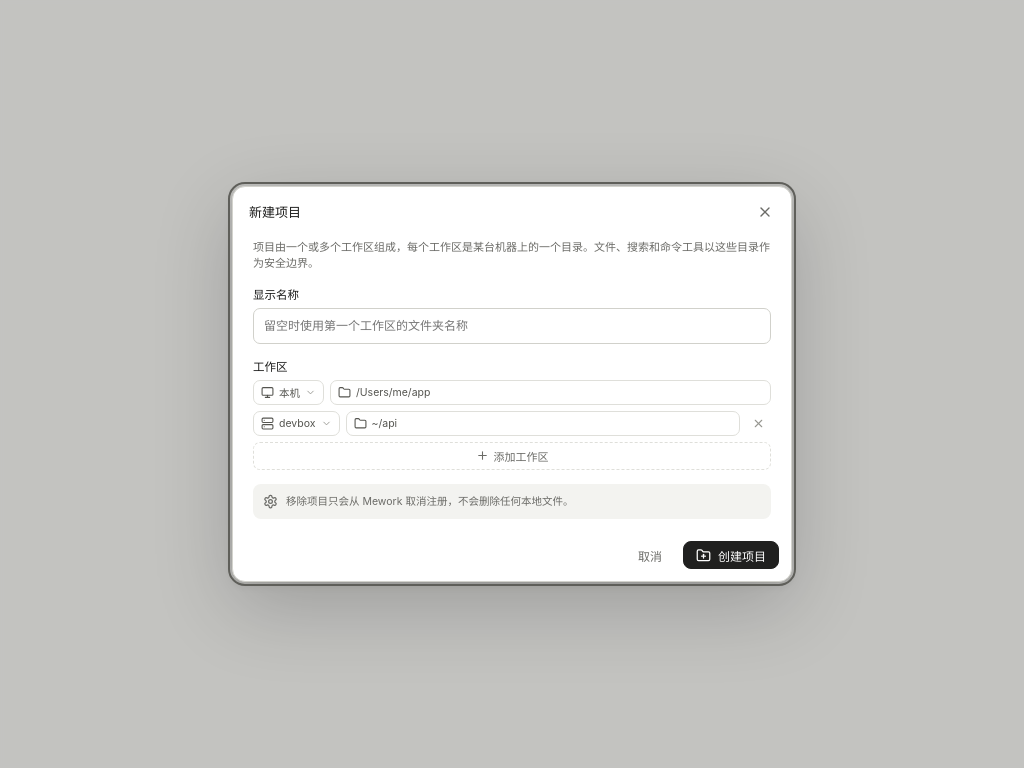
Test: ProjectDialog › deletes an SSH machine from its settings and returns rows on it to an unpicked local row
The width and height of the screenshot is (1024, 768).
Click the button "devbox" at (296, 423), box 253,411 -> 340,436
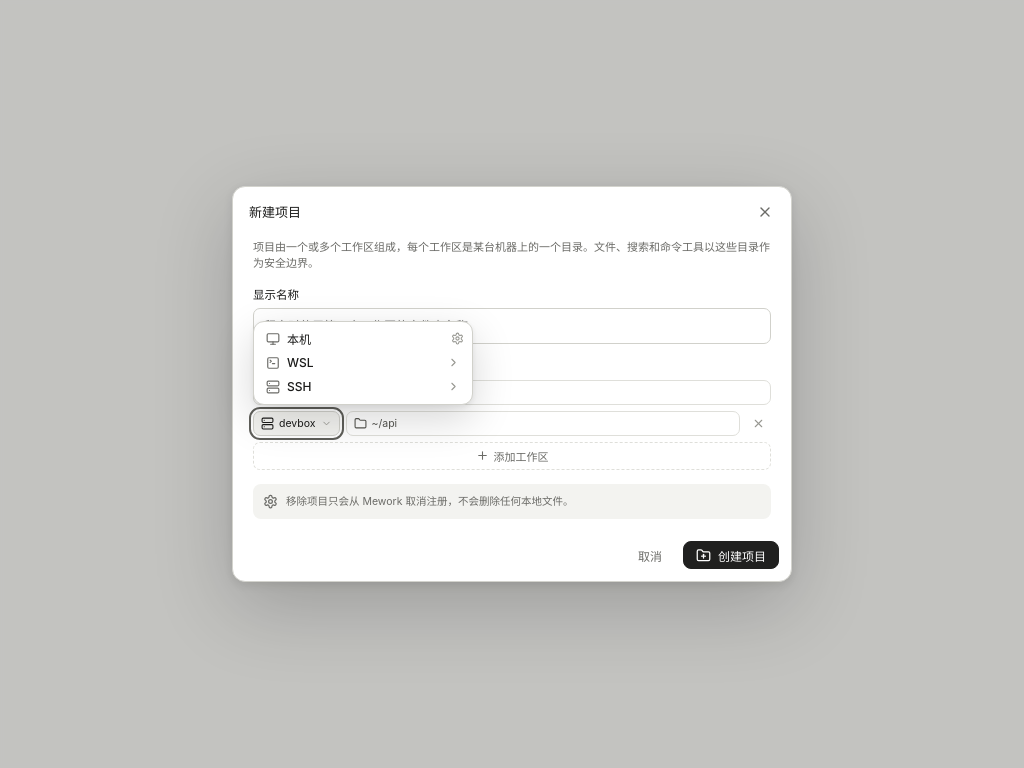
Click the menu item "SSH" at (363, 387), box 259,375 -> 467,399
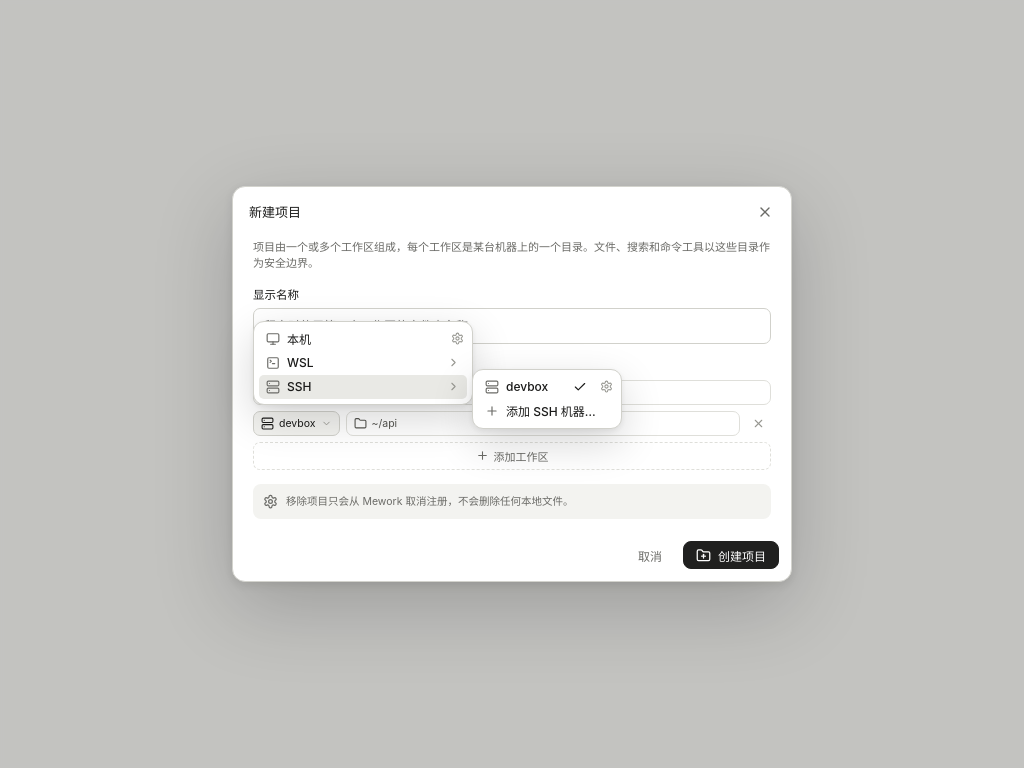
Click the button named "devbox 的设置" at (606, 387), box 596,377 -> 616,397
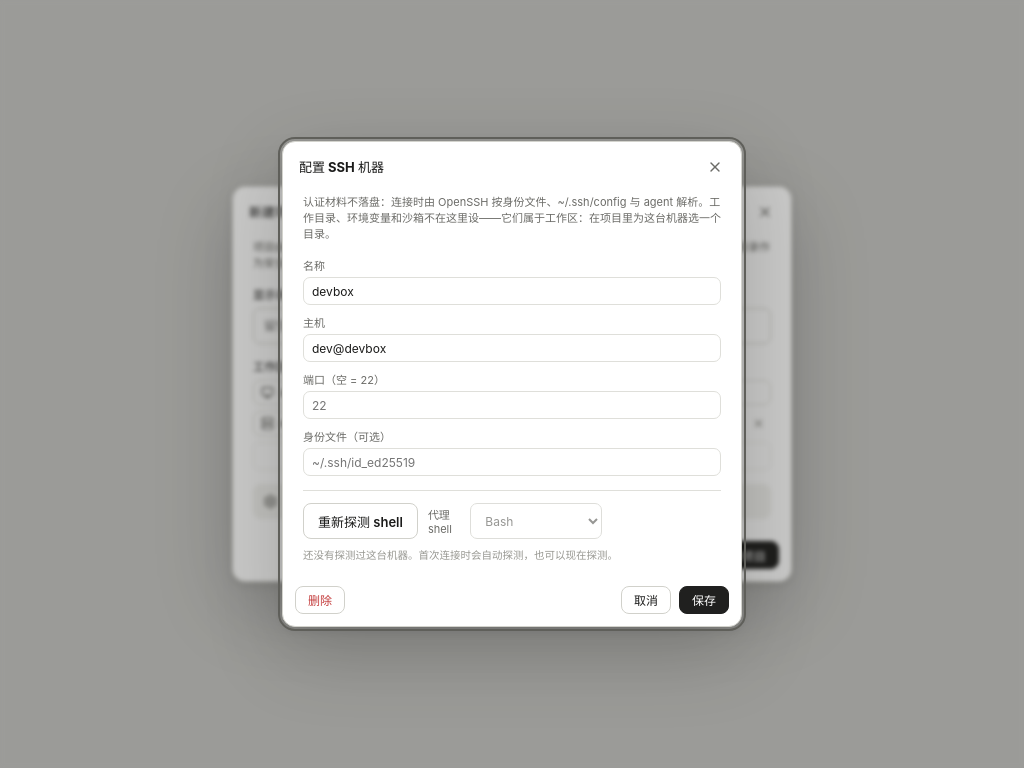
Click the button "删除" at (320, 600), box 295,586 -> 345,614
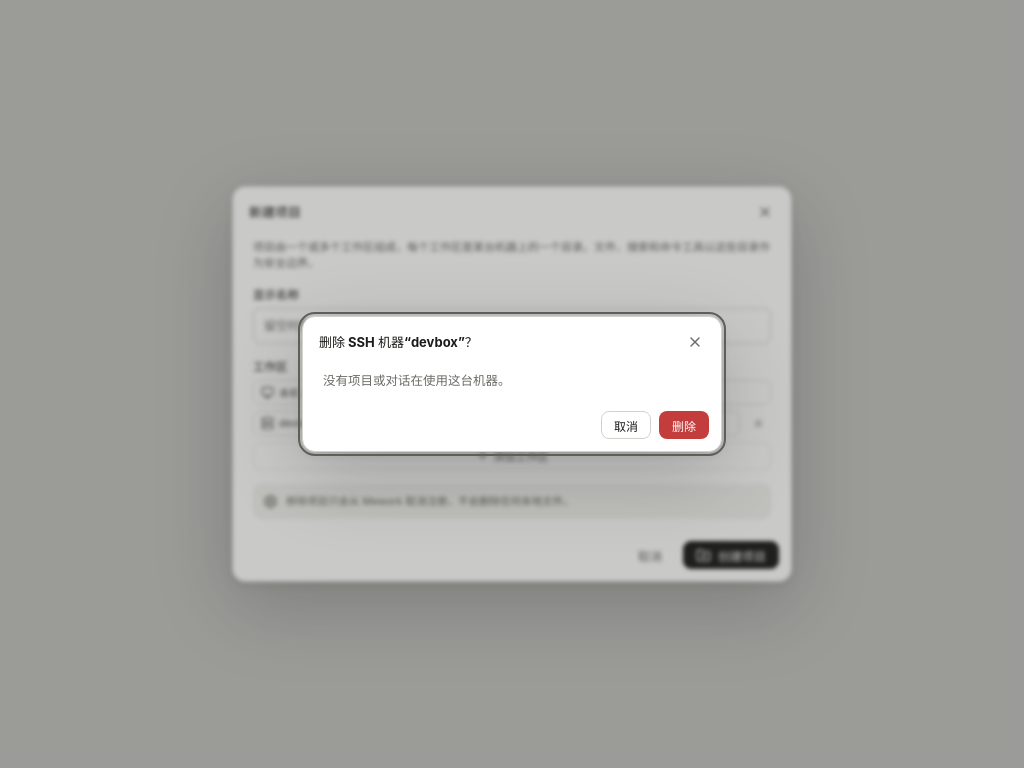
Result: the dialog "删除 SSH 机器“devbox”？" shows "没有项目或对话在使用这台机器。" at 323,373 -> 510,388
Click the button "删除" at (684, 425), box 659,411 -> 709,439
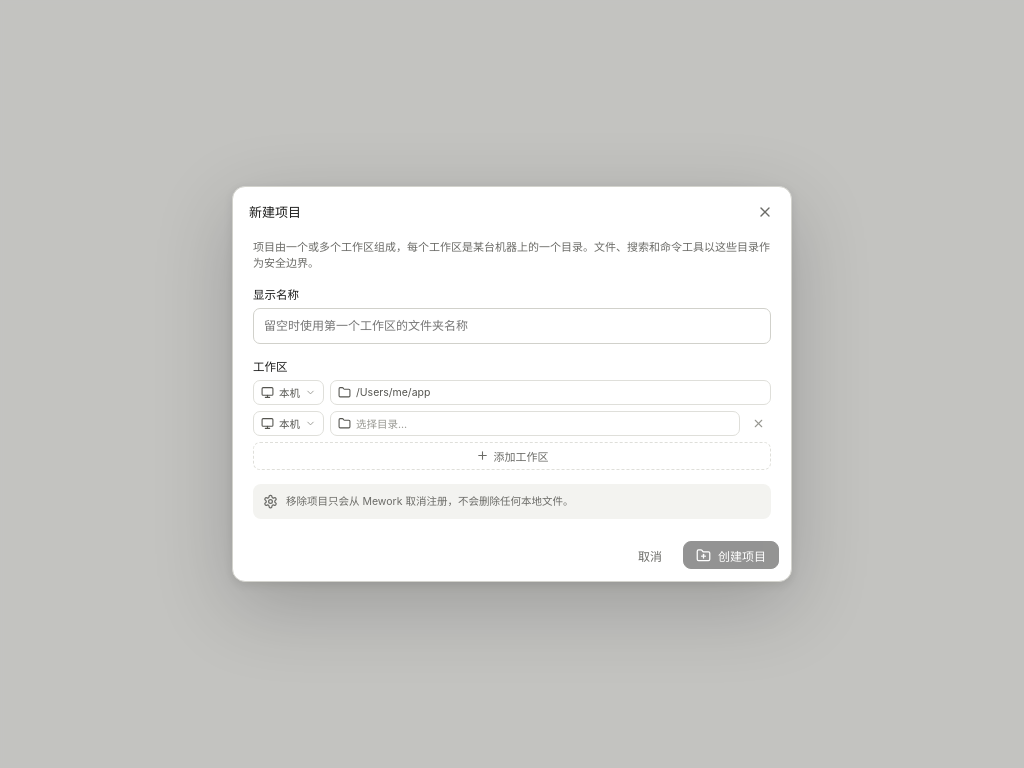
Result: the heading "SSH 机器" is gone
Result: the button with aria-label "为工作区 2 选择目录" is shown at 330,411 -> 740,436
